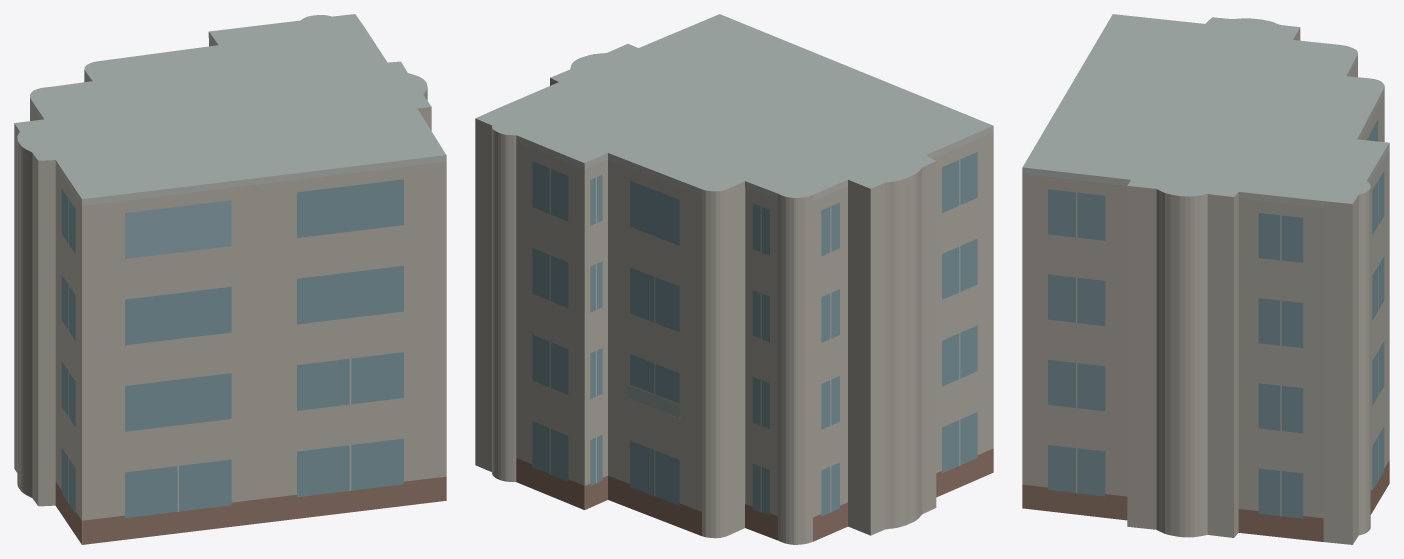
Rendered from survey-upis-32723469.glb.
3 views of the same model, side by side, from view 1: azimuth 30°, elevation 25°; view 2: azimuth 150°, elevation 25°; view 3: azimuth 270°, elevation 25° (orthographic).
Parts seen in each view (by area): view 1: survey-upis-32723469.tmp; view 2: survey-upis-32723469.tmp; view 3: survey-upis-32723469.tmp.
Part boxes in pixels (box(x1,y1,x2,y2)): survey-upis-32723469.tmp: box(14, 14, 446, 544); survey-upis-32723469.tmp: box(475, 14, 993, 544); survey-upis-32723469.tmp: box(1022, 14, 1389, 544).
Bounding box in the file's own units: 15.42 × 12.9 × 12.6.
